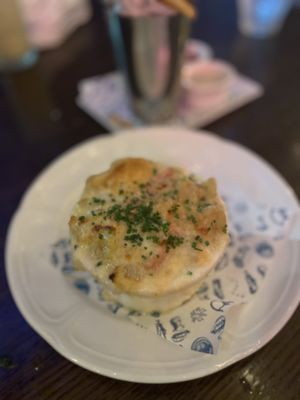curry: (1, 2, 298, 400)
sandwich: (68, 158, 230, 315)
soup: (99, 0, 198, 124)
